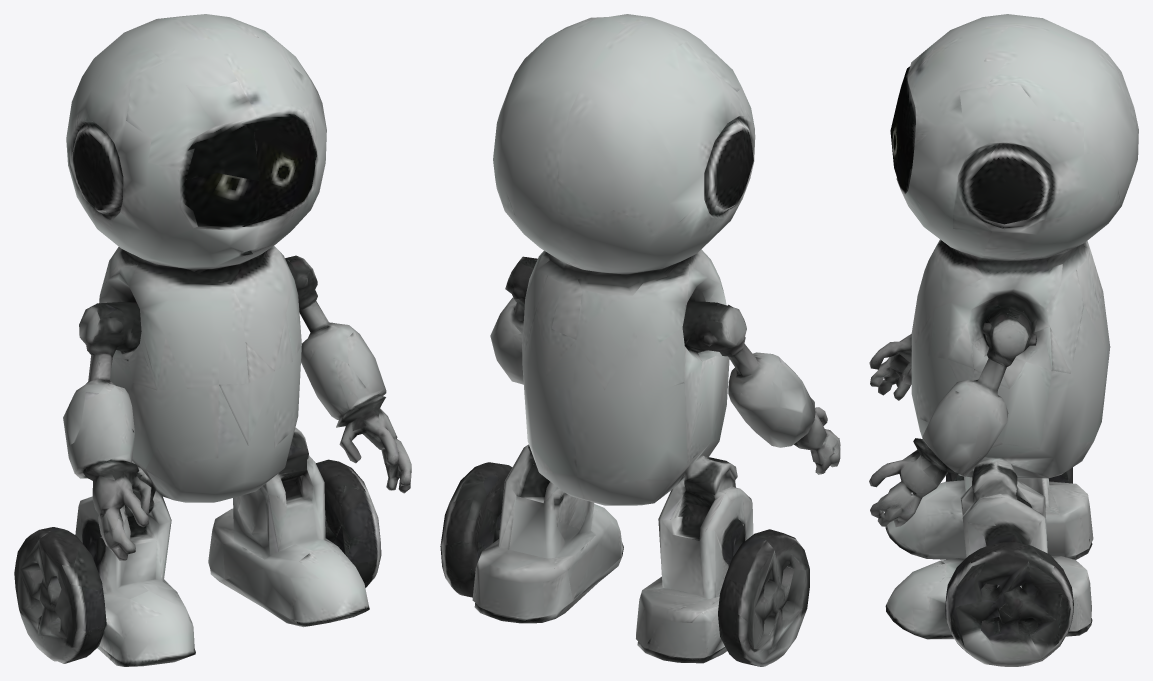
File: robot-mobile.glb
The picture shows the model from 3 angles, left to right: view 1: azimuth 30°, elevation 25°; view 2: azimuth 150°, elevation 25°; view 3: azimuth 270°, elevation 25°; orthographic projection. The views are drawn at different scales.
Visible parts, largest first — view 1: CODED_robot; view 2: CODED_robot; view 3: CODED_robot.
Part boxes in pixels (<box>): CODED_robot: <box>14,14,411,666</box>; CODED_robot: <box>440,14,840,666</box>; CODED_robot: <box>869,14,1138,666</box>.
Bounding box in the file's own units: 0.5429 × 1 × 0.4284.
Materials: 1 (1 with a texture image).
